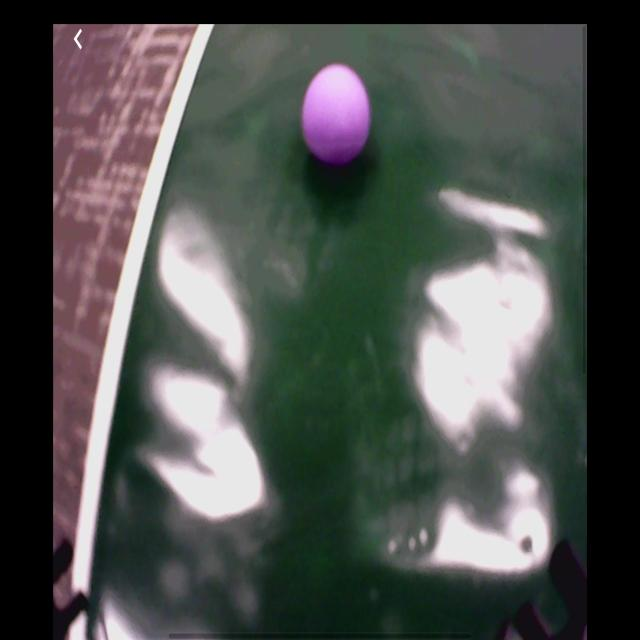ball: (302, 62, 371, 164)
